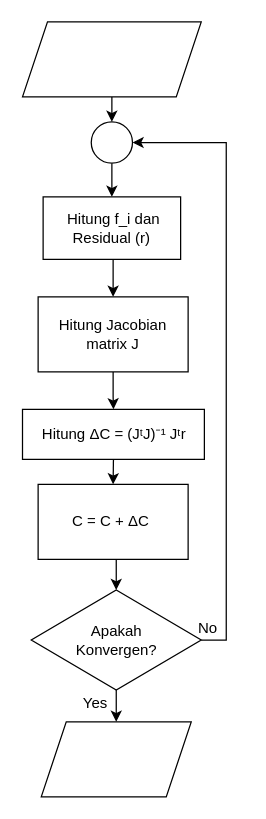
This 266x819 diagram has some shape labels left out. Here are the shapes that lost their labels. From the top down, the box of each, then its label:
(21, 21, 201, 97): Inisialisasi n ilai C1, C2, C3 awal
(40, 721, 191, 797): Dapatkan C1, C2, C3
